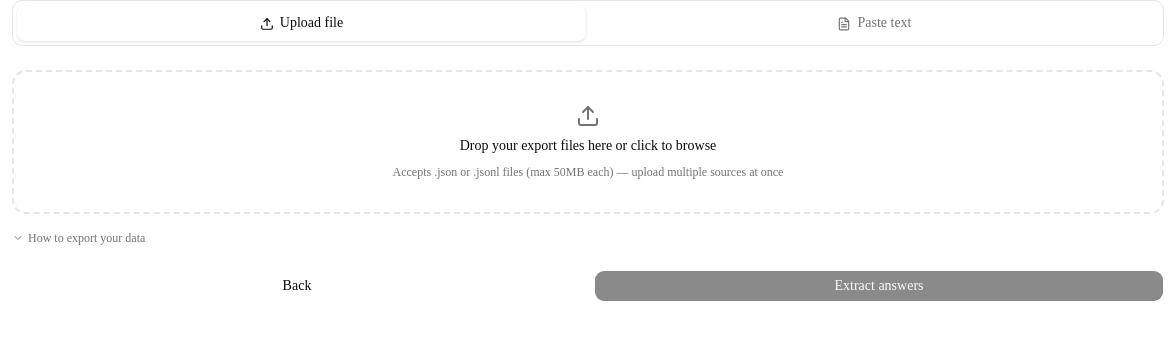
Test: MemoryImport › enables submit after pasting text
Click the button "Paste text": (874, 23) [590,5,1159,41]
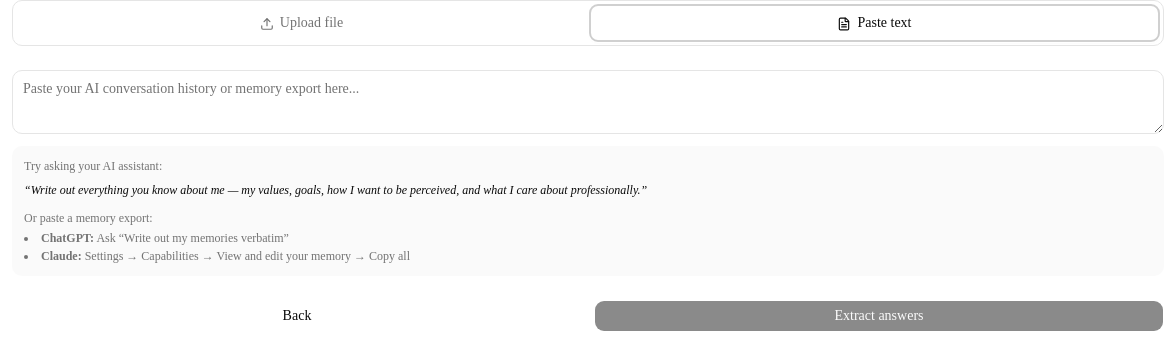
In the text box with placeholder "Paste your AI conversation history or memory export here...": (588, 102) [12,70,1164,134], type "my values are honesty"
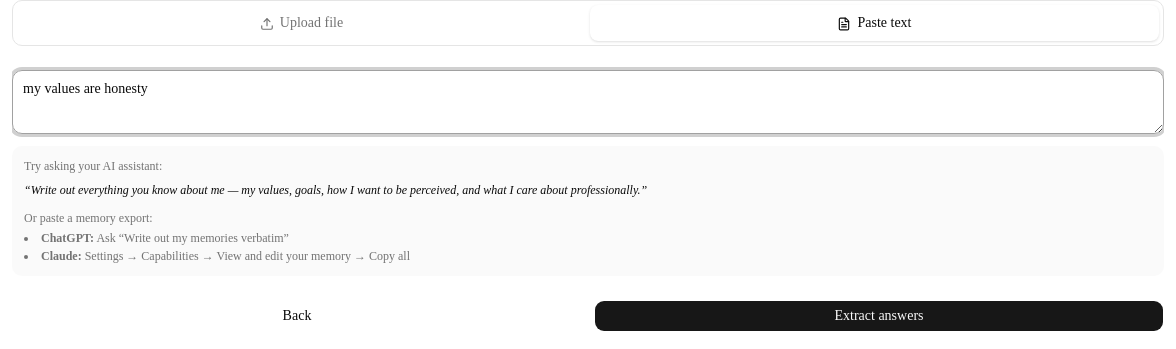
Now the button "Extract answers" is enabled, box [594,300,1164,332]
